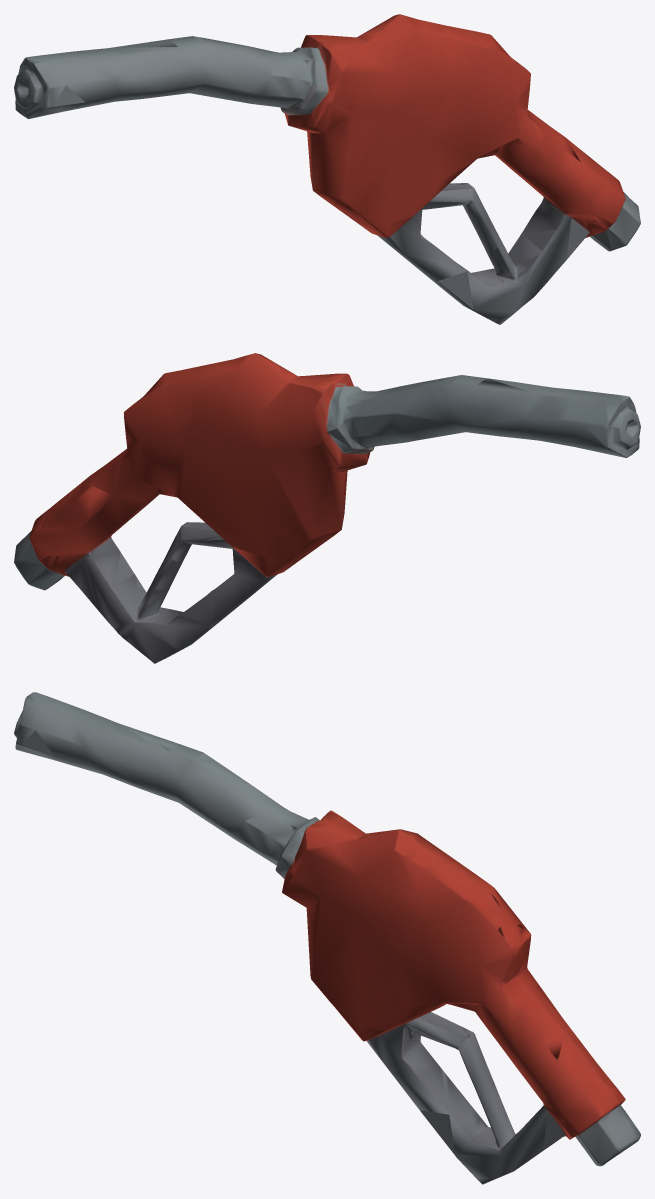
File: Meshy_AI_Crimson_Fuel_Nozzle_0901150708_texture.fbx
The picture shows the model from 3 angles, top to bottom: view 1: azimuth 30°, elevation 25°; view 2: azimuth 150°, elevation 25°; view 3: azimuth 330°, elevation 25°; orthographic projection.
Visible parts, largest first — view 1: mesh_node; view 2: mesh_node; view 3: mesh_node.
Part boxes in pixels (box(x1,y1,x2,y2)): mesh_node: box(14, 14, 640, 324); mesh_node: box(14, 353, 640, 663); mesh_node: box(14, 692, 640, 1184).
Size of the model in its own units: 190 by 109 by 21.56.
Materials: 1 (1 with a texture image).
